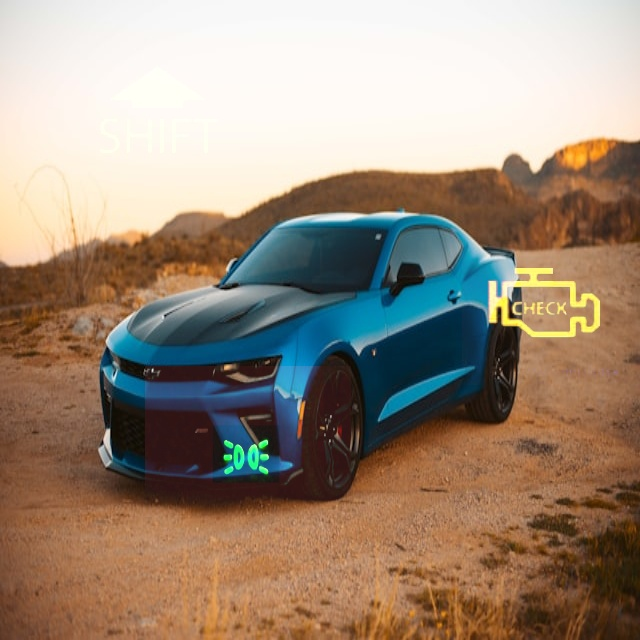symbol: (145, 366, 351, 572), (462, 222, 625, 385), (78, 32, 238, 192)
